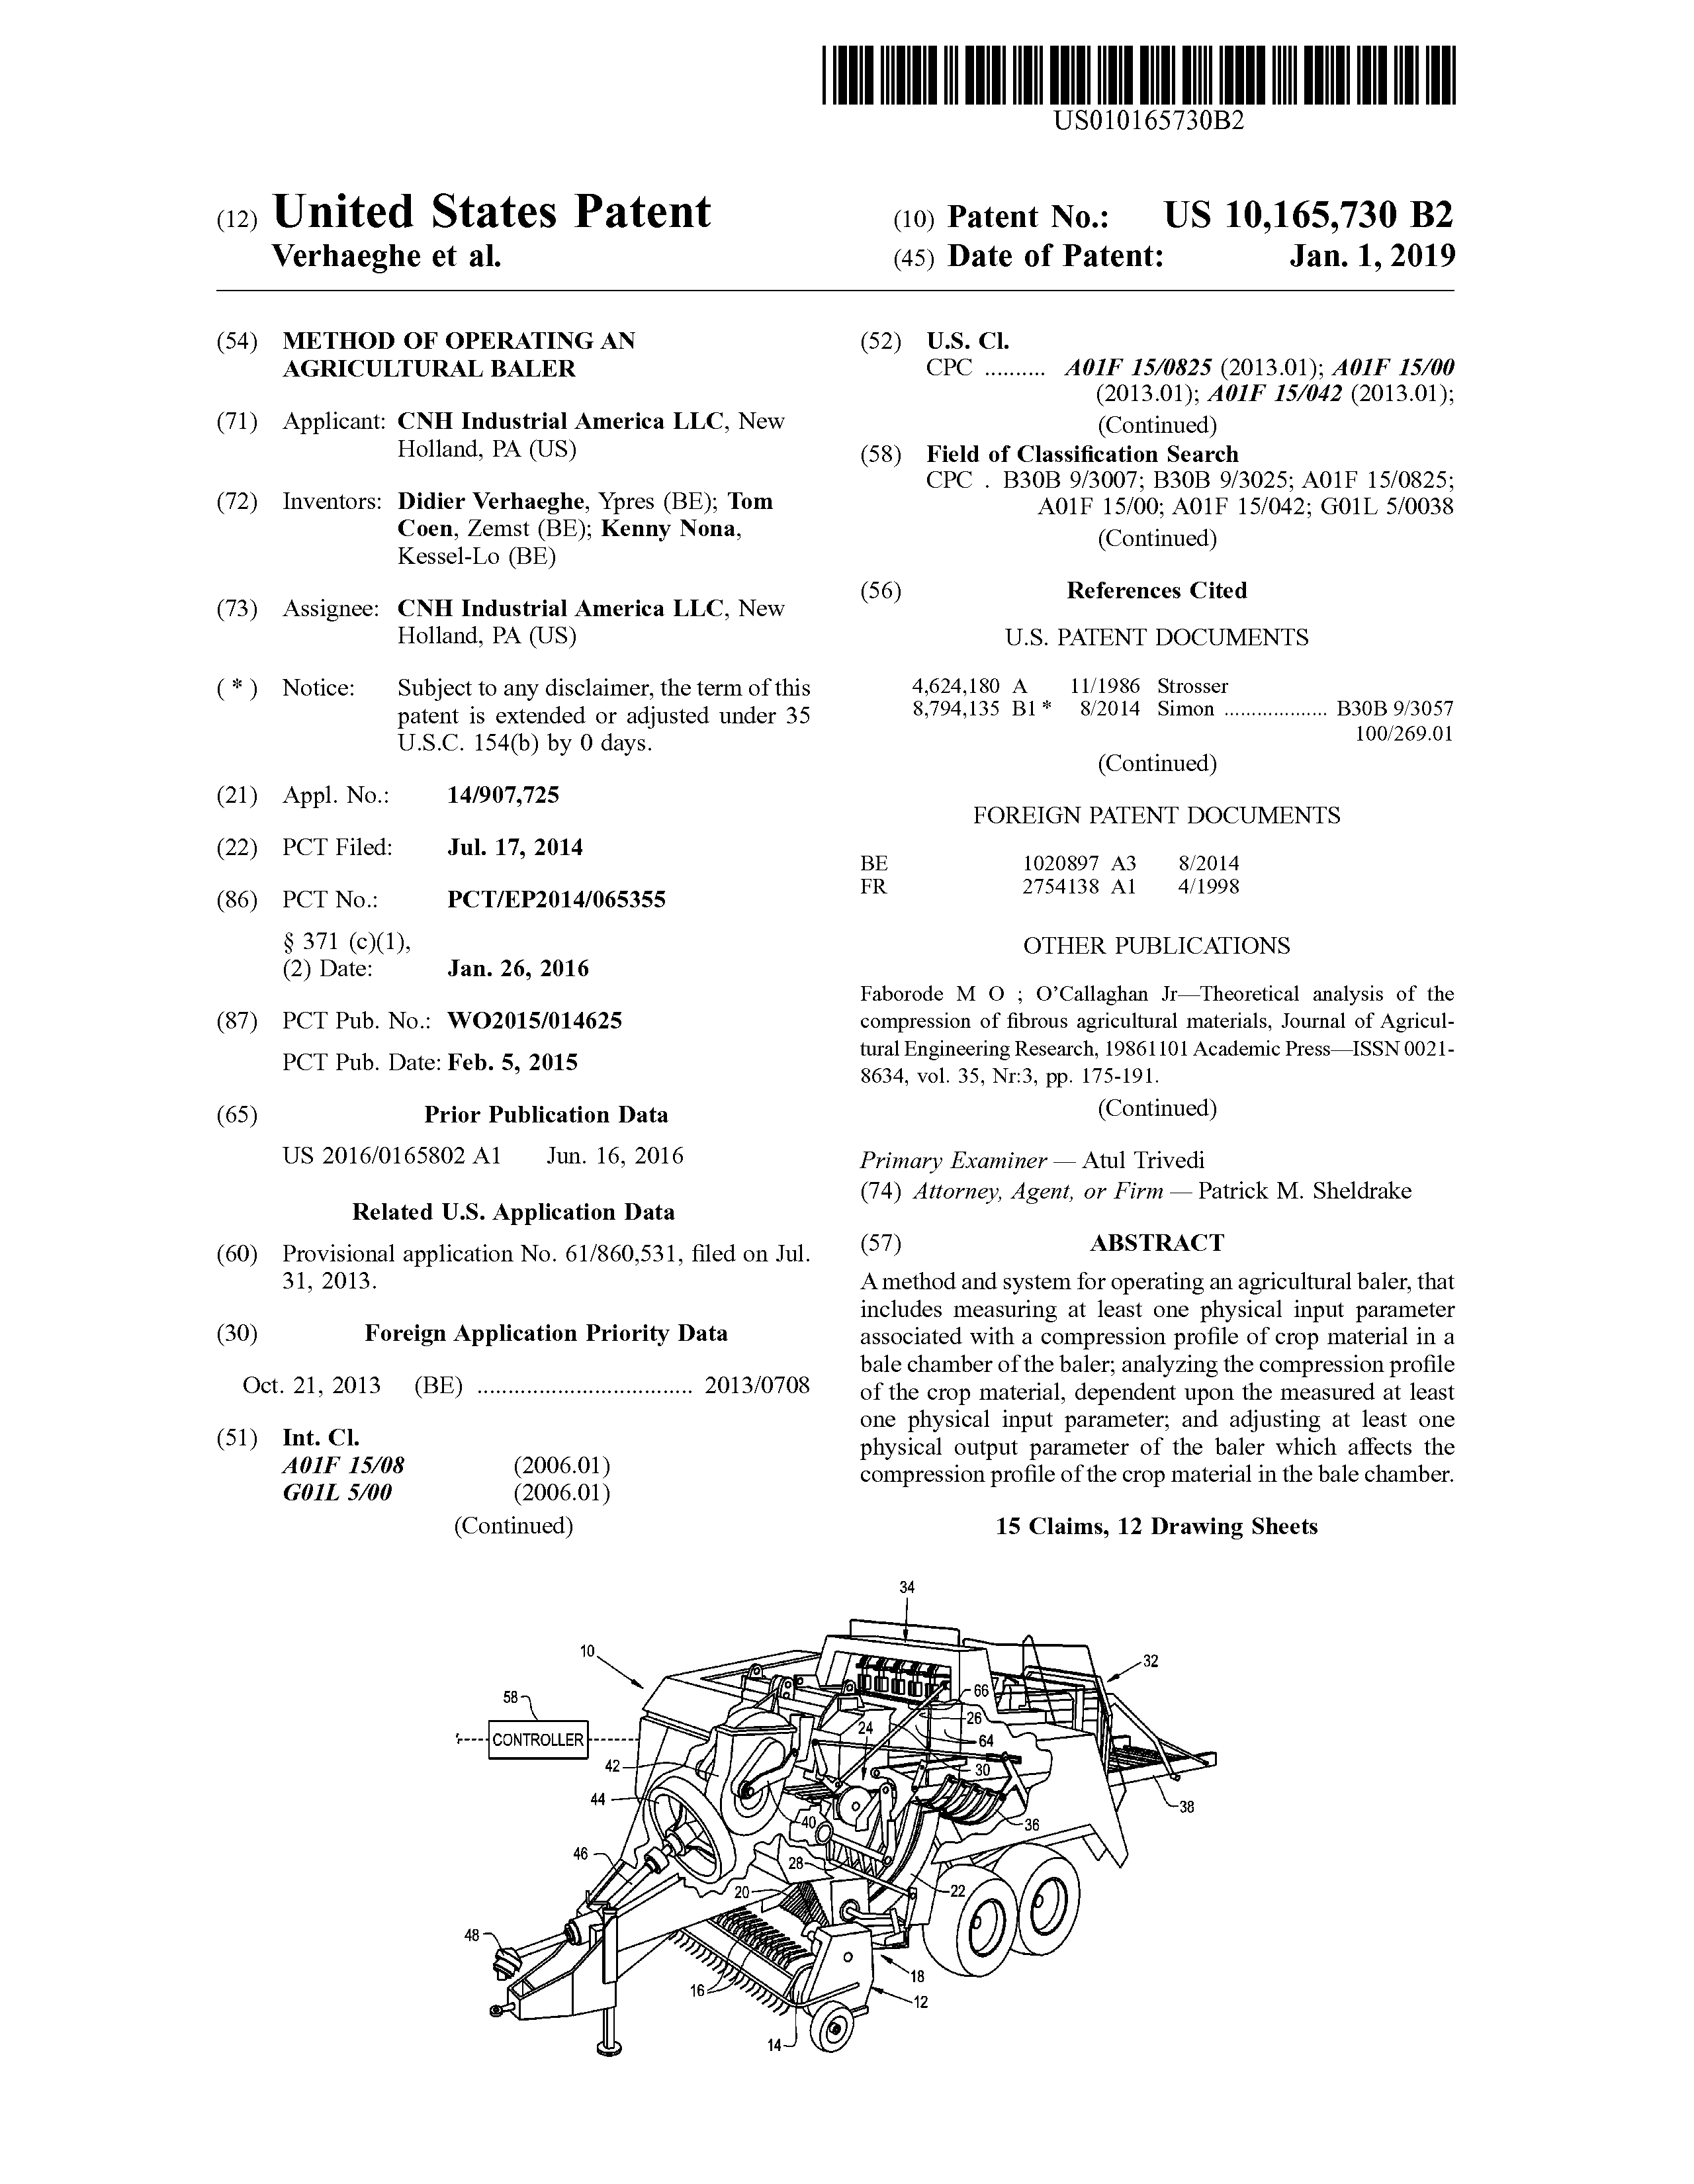patent image: (422, 1576, 1282, 2083)
